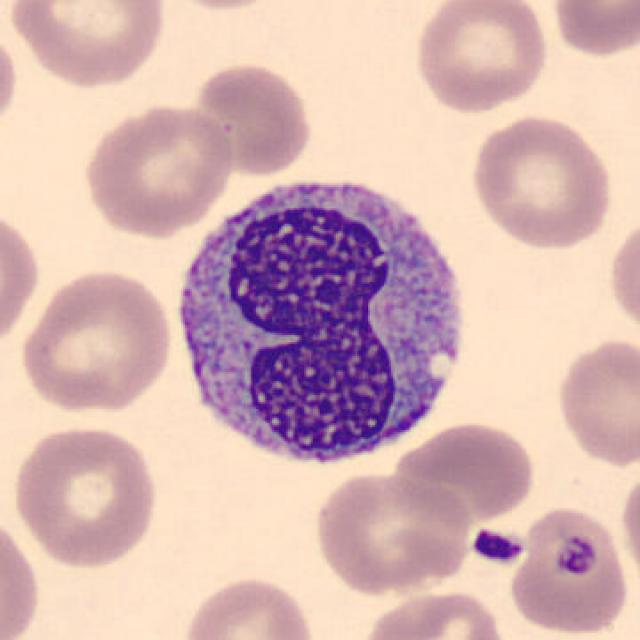Monocyte: (164, 159, 480, 485)
Platelets: (546, 526, 606, 586), (469, 527, 528, 566)
RBC: (16, 265, 178, 416), (9, 420, 162, 571), (78, 99, 238, 240), (309, 467, 473, 598), (466, 111, 617, 252), (505, 502, 633, 638), (409, 0, 553, 116), (391, 418, 539, 527), (188, 58, 316, 178), (5, 0, 171, 90), (551, 333, 640, 471), (176, 571, 322, 640), (356, 585, 510, 640), (0, 202, 44, 354), (0, 506, 44, 640), (548, 0, 636, 60), (604, 210, 640, 344), (617, 464, 640, 589), (0, 21, 21, 142), (151, 0, 292, 14)
